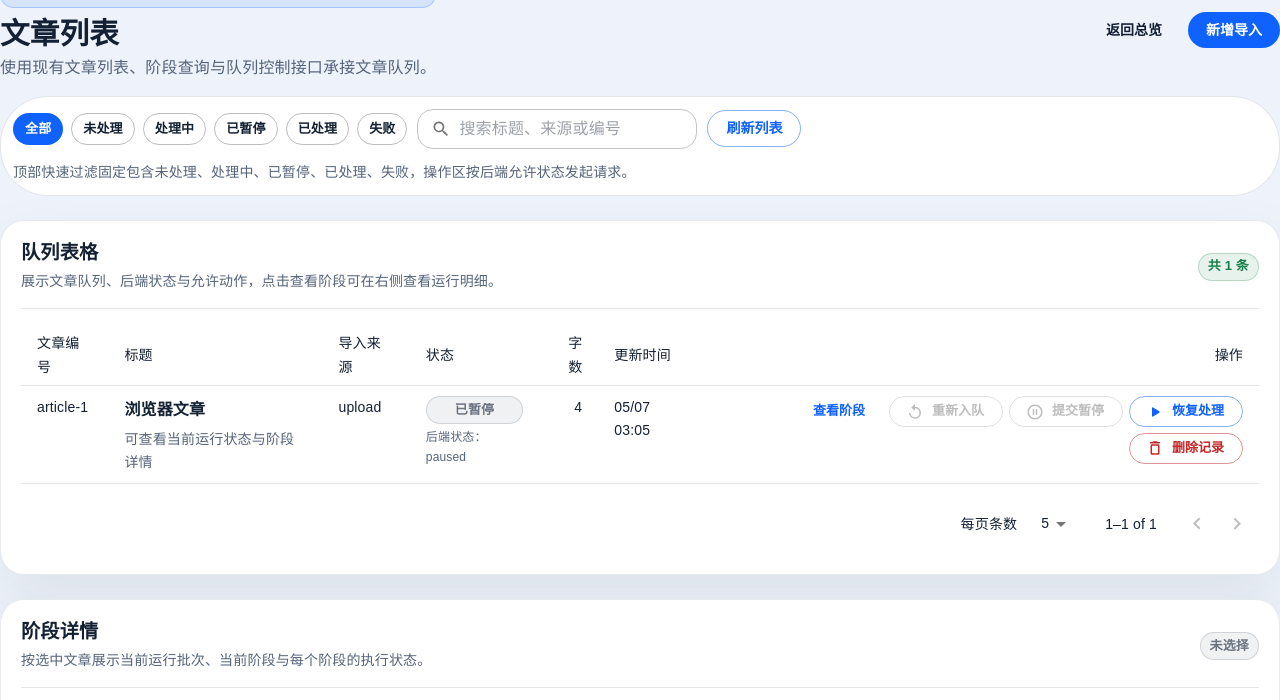
Test: ArticlesPage › accepts browser-first article payloads without legacy compatibility fields
Check: the heading "浏览器文章" is shown, box [124,401,205,418]
Click the button "查看阶段" at (839, 412), box [795,396,883,427]
(page scrolled)
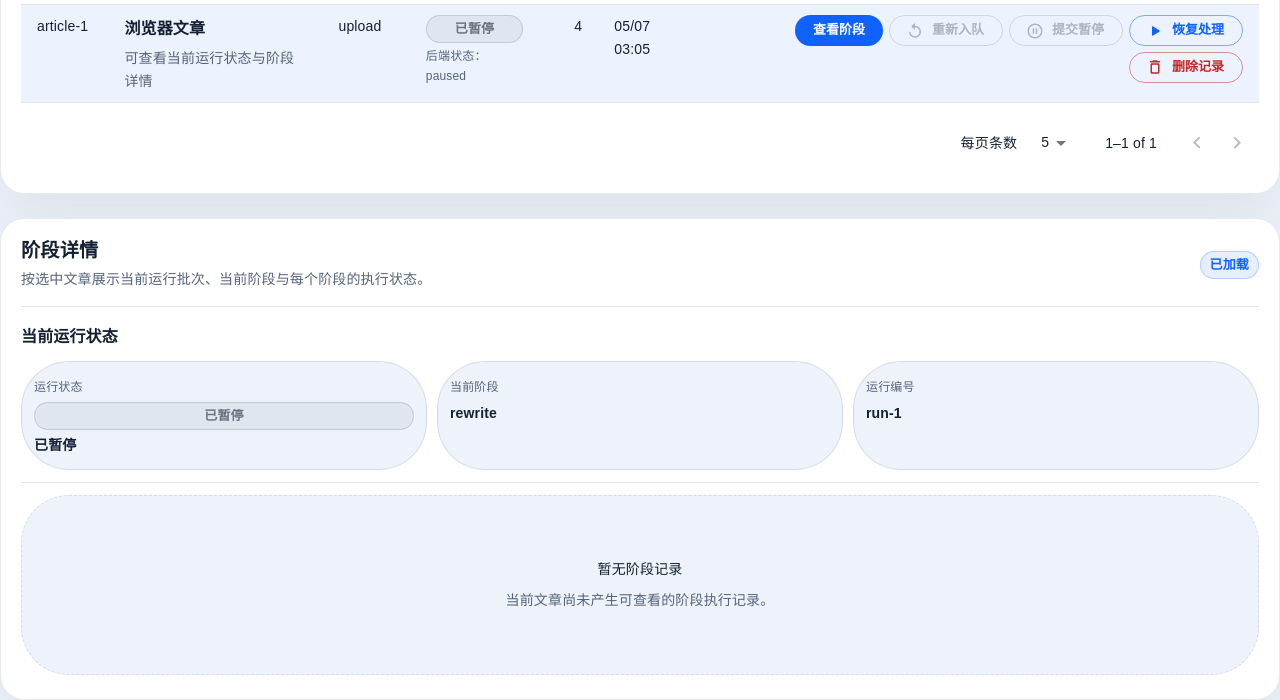
Check: the heading "当前运行状态" is shown, box [21,328,118,345]
Check: the text "run-1" is shown, box [866,405,902,421]
Check: the text "rewrite" is shown, box [450,405,497,421]
